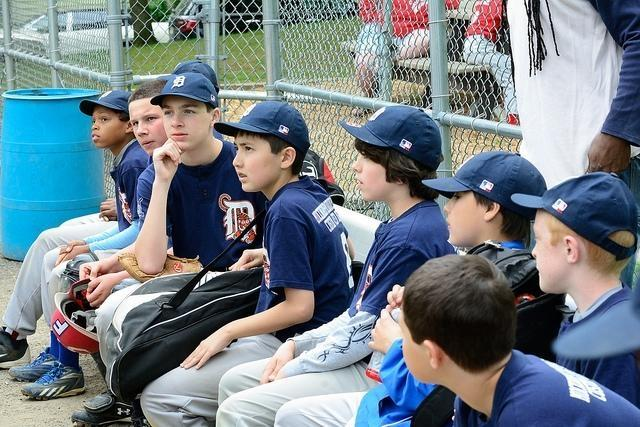car: (14, 8, 172, 54), (170, 1, 202, 38)
